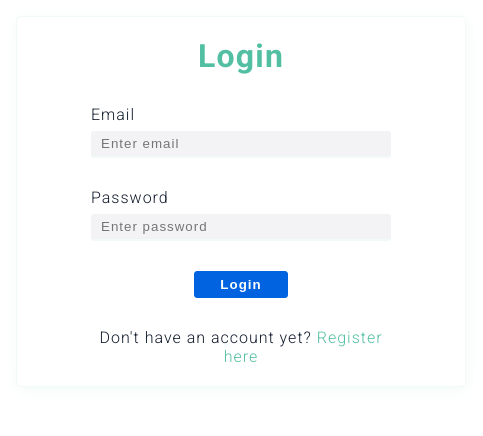
login comp › errors should be rendered in case inputs value is empty after button click
Click the button "Login" at (241, 284), box [194,271,288,298]
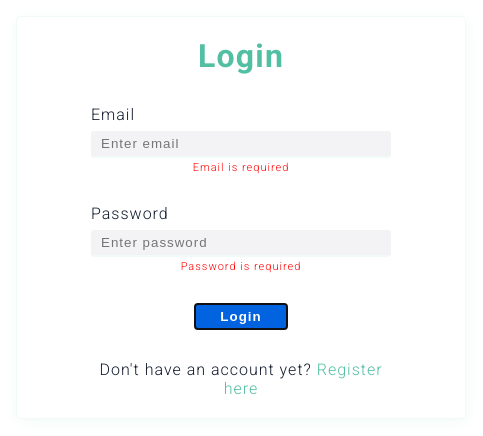
Result: the text "Email is required" is shown at [193,161,289,174]
Result: the text "Password is required" is shown at [181,260,301,273]
